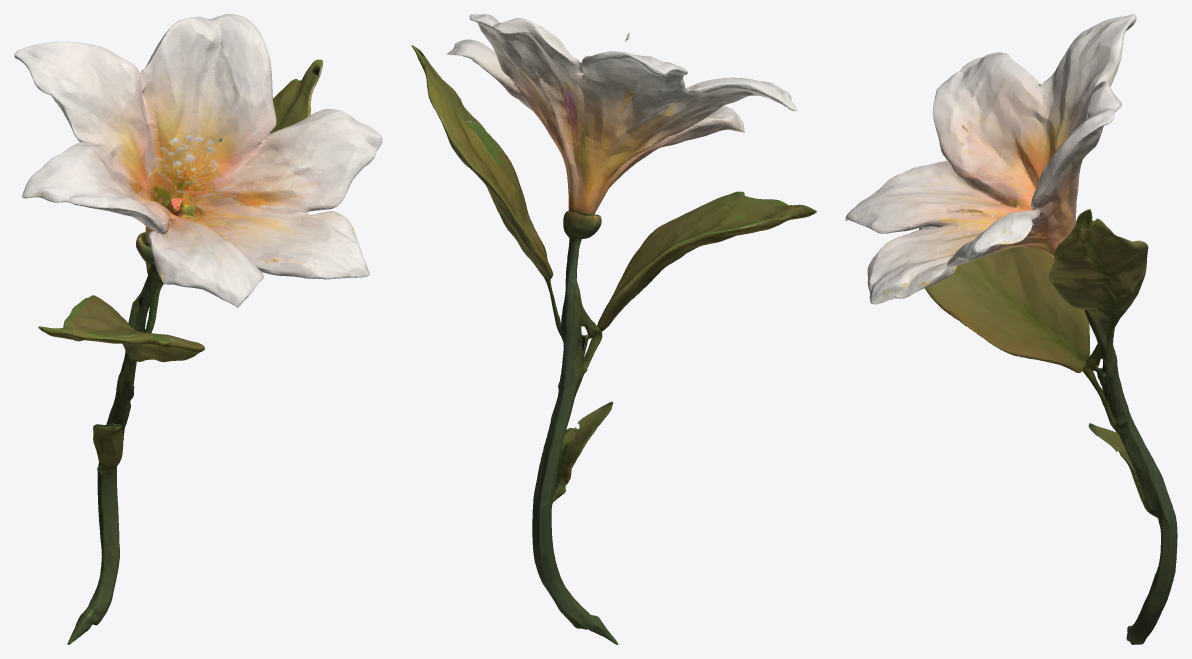
The model's file is “A_delicate_semi_r_0706111931_texture.fbx.
The picture shows the model from 3 angles, left to right: view 1: azimuth 30°, elevation 25°; view 2: azimuth 150°, elevation 25°; view 3: azimuth 270°, elevation 25°; orthographic projection. The views are drawn at different scales.
Visible parts, largest first — view 1: temp; view 2: temp; view 3: temp.
Part boxes in pixels (x1=…): temp: x1=14, y1=14, x2=382, y2=644; temp: x1=411, y1=14, x2=816, y2=644; temp: x1=845, y1=14, x2=1177, y2=644.
Size of the model in its own units: 121 by 199 by 98.27.
1 material, 1 textured.
